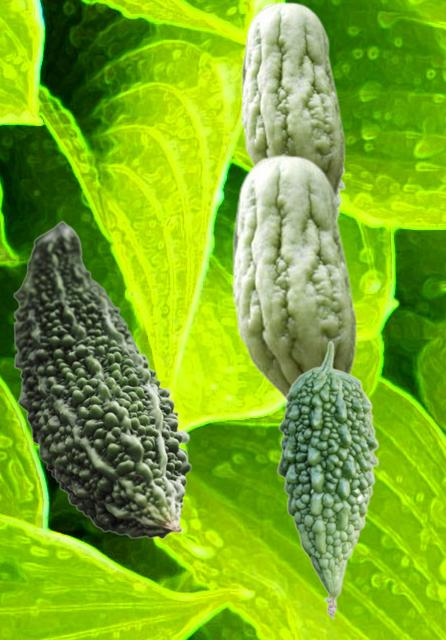ampalaya: (13, 220, 191, 538), (231, 154, 357, 399), (276, 340, 378, 619), (240, 1, 345, 195)
